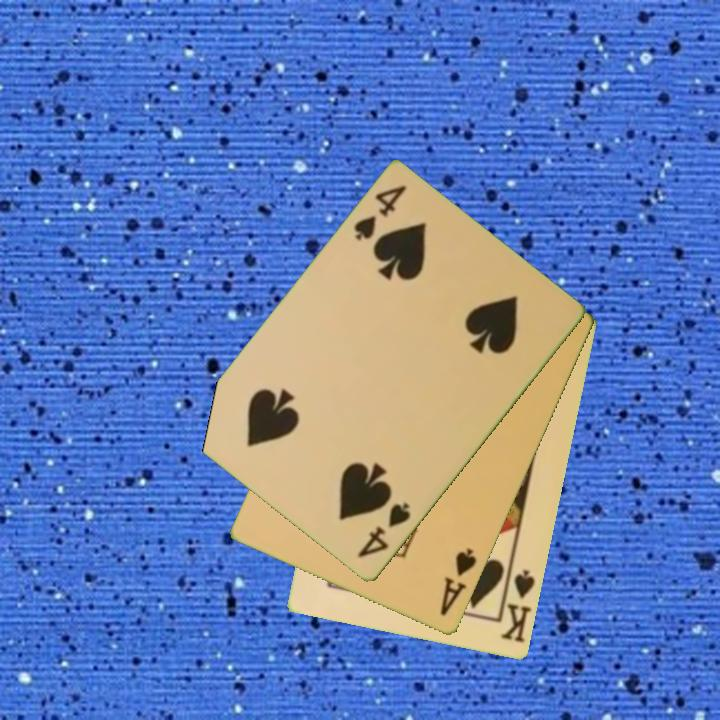4s: (354, 499, 414, 562), (350, 182, 410, 245)
As: (436, 545, 480, 619)
Ks: (498, 566, 538, 646)
